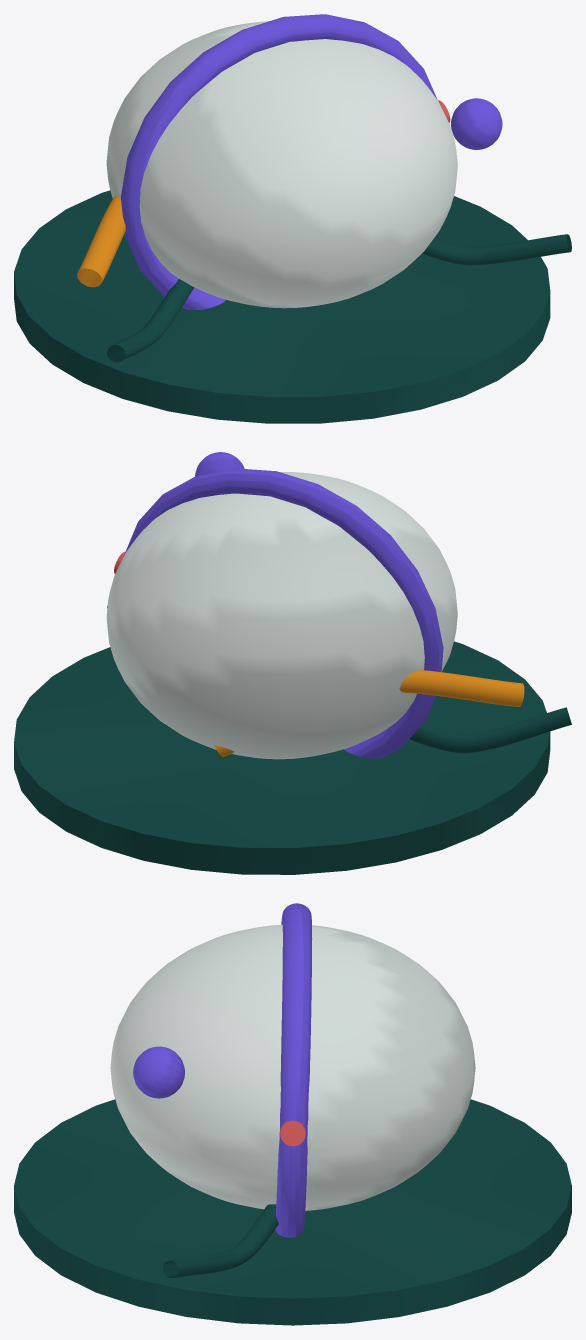
Rendered from 0425_微生物图鉴_埃博拉病毒.glb.
The picture shows the model from 3 angles, top to bottom: view 1: azimuth 30°, elevation 25°; view 2: azimuth 150°, elevation 25°; view 3: azimuth 270°, elevation 25°; orthographic projection.
Visible parts, largest first — view 1: card_0425; view 2: card_0425; view 3: card_0425.
Boxes of the visible parts, x1,y1,x2,y2 form: card_0425: (14,14,571,423); card_0425: (14,452,571,874); card_0425: (14,903,571,1325).
Bounding box in the file's own units: 1.64 × 1 × 1.69.
